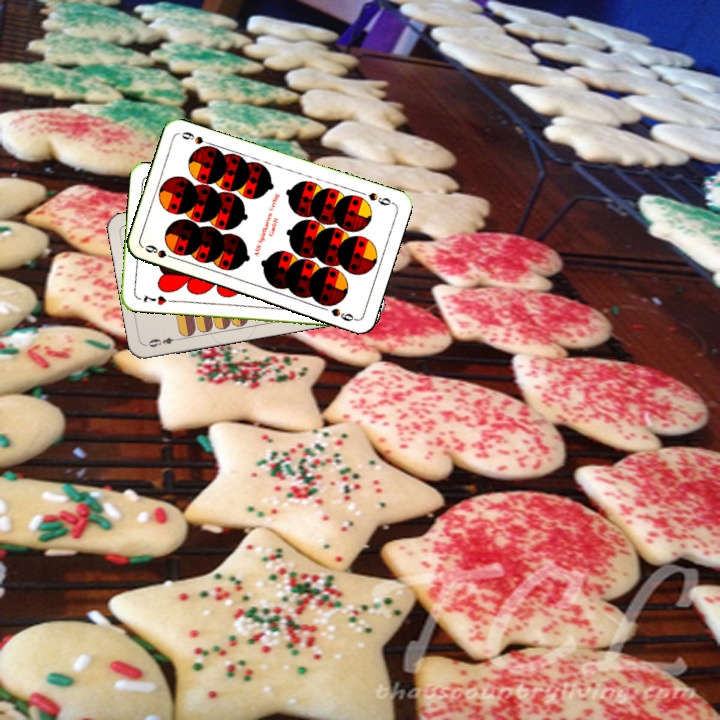E9: (145, 333, 183, 350)
H7: (139, 290, 169, 308)
S9: (141, 241, 180, 262), (364, 188, 396, 208)
